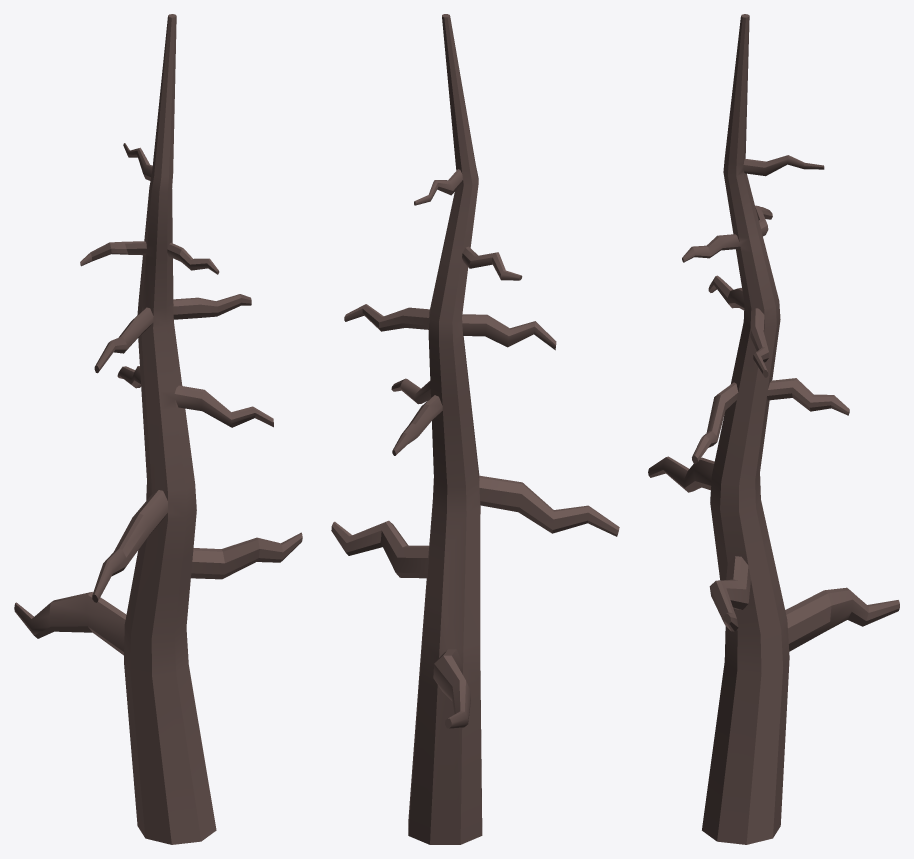
Rendered from dever3.fbx.
3 views of the same model, side by side, from view 1: azimuth 30°, elevation 25°; view 2: azimuth 150°, elevation 25°; view 3: azimuth 270°, elevation 25° (orthographic).
Visible parts, largest first — view 1: Trunk.001; view 2: Trunk.001; view 3: Trunk.001.
Boxes of the visible parts, left/top/right/bottom form: Trunk.001: left=14, top=14, right=302, bottom=844; Trunk.001: left=331, top=14, right=619, bottom=844; Trunk.001: left=648, top=14, right=899, bottom=844.
Bounding box in the file's own units: 1.67 × 5.24 × 1.48.
